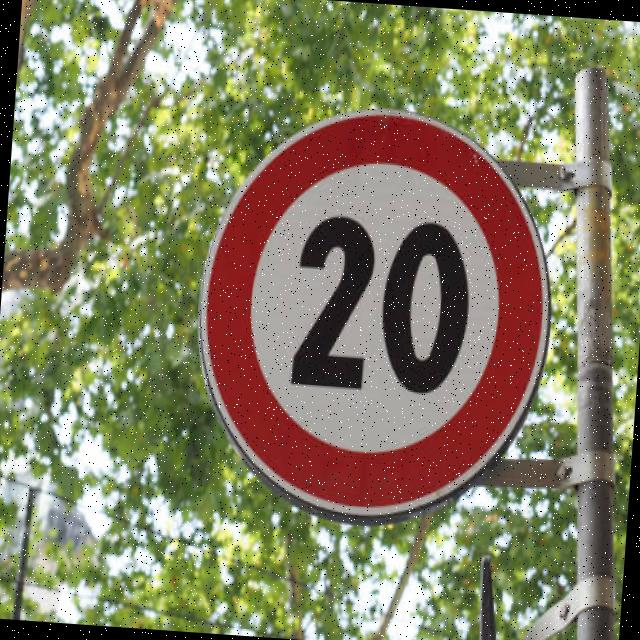speed_limit_20: (187, 89, 568, 540)
